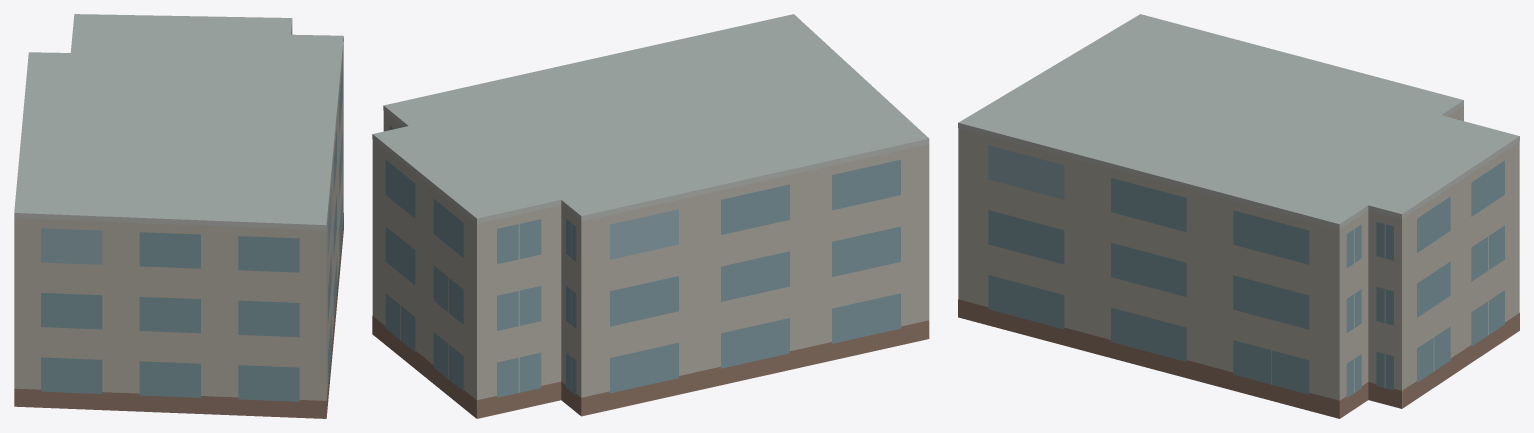
The model's file is survey-upis-32992143.glb.
3 views of the same model, side by side, from view 1: azimuth 30°, elevation 25°; view 2: azimuth 150°, elevation 25°; view 3: azimuth 270°, elevation 25° (orthographic). The views are drawn at different scales.
Parts seen in each view (by area): view 1: survey-upis-32992143.tmp; view 2: survey-upis-32992143.tmp; view 3: survey-upis-32992143.tmp.
Boxes of the visible parts, left/top/right/bottom form: survey-upis-32992143.tmp: left=14, top=14, right=343, bottom=418; survey-upis-32992143.tmp: left=372, top=14, right=929, bottom=418; survey-upis-32992143.tmp: left=958, top=14, right=1519, bottom=418.
Size of the model in its own units: 21.2 by 9.15 by 23.93.
